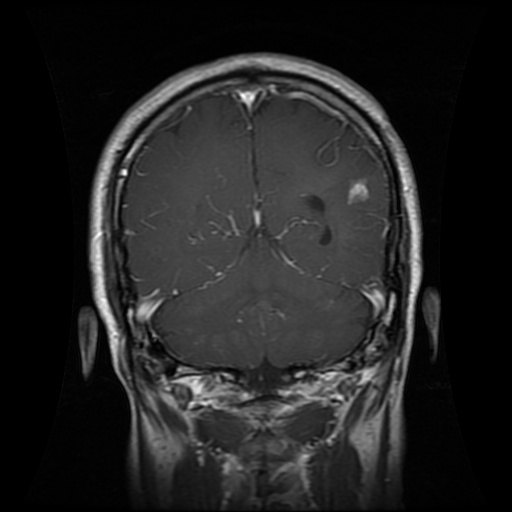glioma: (306, 195, 334, 246)
